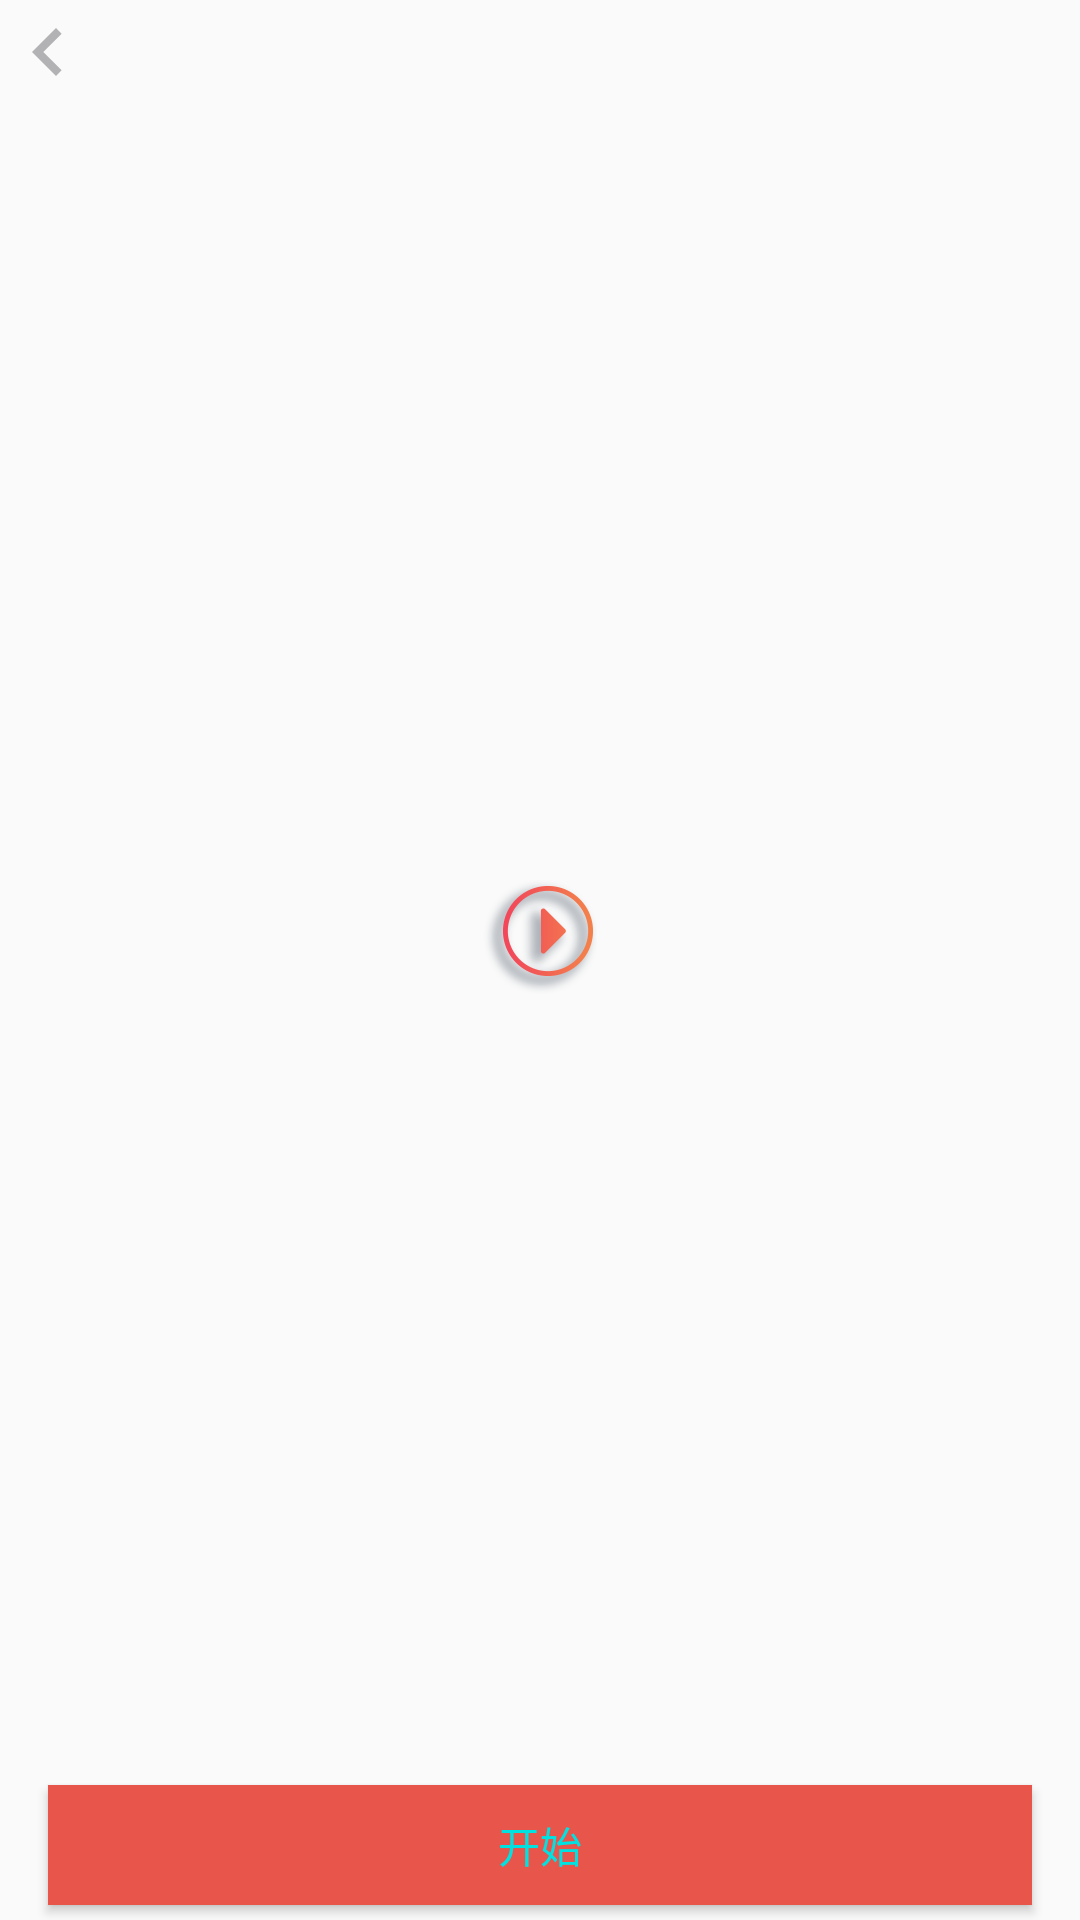

Icon click points for this 1080*1920 phone screenshot, format (x,y):
chevron left: (46,52)
play: (542,936)
